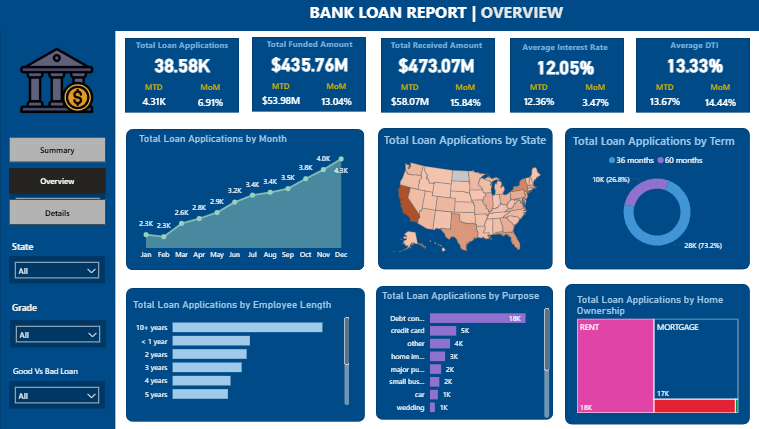

The dashboard page shown, as its layout file describes it:
{"tool":"powerbi","page":{"name":"Overview","canvas":[1280,720],"ordinal":1},"visuals":[{"type":"shape","box":[9.5,0,192.1,720.6],"z":0},{"type":"slicer","fields":{"Values":["bank_loans_data.address_state"]},"box":[25.4,430.1,160.3,46],"z":0,"group":"g6"},{"type":"slicer","fields":{"Values":["bank_loans_data.grade"]},"box":[26.3,536.8,160.3,46],"z":0,"group":"g7"},{"type":"slicer","fields":{"Values":["bank_loans_data.Good vs Bad Loans"]},"box":[25.4,638.1,160.3,46],"z":0,"group":"g8"},{"type":"shape","box":[10.1,0,1269.9,55.4],"z":1000},{"type":"textbox","box":[27,292.1,115.9,31.7],"z":1000,"group":"g9"},{"type":"textbox","box":[25.4,398.4,115.9,31.7],"z":1000,"group":"g6"},{"type":"textbox","box":[25.4,500,74.6,30.2],"z":1000,"group":"g7"},{"type":"textbox","box":[26.8,608.3,131.8,29.9],"z":1000},{"type":"textbox","box":[201.6,0,1078.4,55.4],"z":2000},{"type":"group","id":"g1","title":"Group 2","box":[430.7,65.1,190,129.6],"z":3000},{"type":"shape","box":[430.7,65.1,190,124.4],"z":3000,"group":"g1"},{"type":"shape","box":[219.7,66.1,190,124.4],"z":3000,"group":"g4"},{"type":"shape","box":[860.5,66.4,190,124.4],"z":3000,"group":"g3"},{"type":"shape","box":[645.1,66.7,190,124.4],"z":3000,"group":"g2"},{"type":"shape","box":[1069.8,65.9,190,124.4],"z":4000,"group":"g5"},{"type":"group","id":"g2","title":"Group 2","box":[640.2,66.7,195.2,128.6],"z":4000},{"type":"card","title":"MTD","fields":{"Values":["bank_loans_data.MTD Funded Amount"]},"box":[431,138.3,96.1,53],"z":4000,"group":"g1"},{"type":"card","title":"MTD","fields":{"Values":["bank_loans_data.MTD Loan Applications"]},"box":[220,139.3,96.1,53],"z":4000,"group":"g4"},{"type":"card","title":"MTD","fields":{"Values":["bank_loans_data.MTD Interest Rate"]},"box":[860.8,139.6,96.1,53],"z":4000,"group":"g3"},{"type":"card","title":"MTD","fields":{"Values":["bank_loans_data.MTD Amount Received"]},"box":[645.4,139.9,96.1,53],"z":4000,"group":"g2"},{"type":"group","id":"g3","title":"Group 2","box":[855,66.4,195.2,128.6],"z":5000},{"type":"card","title":"Total Funded Amount","fields":{"Values":["bank_loans_data.Total Funded Amount"]},"box":[433.5,67.5,185.2,65.4],"z":5000,"group":"g1"},{"type":"card","title":"Total Loan Applications","fields":{"Values":["bank_loans_data.Total Loan Applications"]},"box":[217.5,68.5,193.8,65.4],"z":5000,"group":"g4"},{"type":"card","title":"Total Received Amount","fields":{"Values":["bank_loans_data.Total Amount Received"]},"box":[640.2,69.1,195.1,65.4],"z":5000,"group":"g2"},{"type":"card","title":"Average Interest Rate","fields":{"Values":["bank_loans_data.Avg Interest Rate"]},"box":[855,71.9,193.8,65.4],"z":5000,"group":"g3"},{"type":"group","id":"g4","title":"Group 2","box":[217.5,66.1,193.7,128.6],"z":6000},{"type":"card","title":"MoM","fields":{"Values":["bank_loans_data.MoM Funded Amount"]},"box":[538.1,138.4,67.8,56.3],"z":6000,"group":"g1"},{"type":"card","title":"MTD","fields":{"Values":["bank_loans_data.MTD DTI"]},"box":[1070.1,139.1,96.1,53],"z":6000,"group":"g5"},{"type":"card","title":"MoM","fields":{"Values":["bank_loans_data.MoM"]},"box":[327,139.4,67.8,56.3],"z":6000,"group":"g4"},{"type":"card","title":"MoM","fields":{"Values":["bank_loans_data.MoM Interest Rate"]},"box":[967.9,139.7,67.8,56.3],"z":6000,"group":"g3"},{"type":"card","title":"MoM","fields":{"Values":["bank_loans_data.MoM Amount Received"]},"box":[752.5,140,67.8,56.3],"z":6000,"group":"g2"},{"type":"group","id":"g5","title":"Group 1","box":[1069.8,65.9,190,129.6],"z":7000},{"type":"card","title":"Average DTI","fields":{"Values":["bank_loans_data.Avg DTI"]},"box":[1074.3,68.3,185.2,65.4],"z":8000,"group":"g5"},{"type":"shape","box":[220.3,217.7,397.5,235.4],"z":8000},{"type":"card","title":"MoM","fields":{"Values":["bank_loans_data.MoM DTI"]},"box":[1177.2,139.2,67.8,56.3],"z":9000,"group":"g5"},{"type":"shape","box":[640,217.3,291.4,235.8],"z":9000},{"type":"group","id":"g6","title":"Group 3","box":[25.4,398.4,160.3,77.8],"z":11000},{"type":"group","id":"g7","title":"Group 3","box":[25.4,500,160.3,82.5],"z":12000},{"type":"group","id":"g8","title":"Group 3","box":[25.4,638.1,160.3,46],"z":13000},{"type":"areaChart","fields":{"Y":["bank_loans_data.Total Loan Applications"],"Category":["Date Table.Month"]},"box":[237.5,224,358.7,222.3],"z":14000},{"type":"group","id":"g9","title":"Group 4","box":[27,292.1,158.7,84.1],"z":15000},{"type":"shapeMap","fields":{"Value":["bank_loans_data.Total Loan Applications"],"Category":["bank_loans_data.address_state"]},"box":[645.1,224,284.6,225.7],"z":16000},{"type":"shape","box":[951.6,217.3,308.2,235.8],"z":17000},{"type":"donutChart","fields":{"Y":["bank_loans_data.Total Loan Applications"],"Category":["bank_loans_data.term"]},"box":[960.7,224.6,290.2,209.8],"z":18000},{"type":"shape","box":[219.7,483.6,398.4,223],"z":18001},{"type":"barChart","fields":{"Category":["bank_loans_data.emp_length"],"Y":["bank_loans_data.Total Loan Applications"]},"box":[226.2,500,370.5,183.6],"z":18002},{"type":"shape","box":[636.1,480.3,295.1,223],"z":18003},{"type":"barChart","fields":{"Category":["bank_loans_data.purpose"],"Y":["bank_loans_data.Total Loan Applications"]},"box":[641,485.2,288.5,219.7],"z":18004},{"type":"shape","box":[952.5,477,308.2,234.4],"z":18005},{"type":"treemap","fields":{"Group":["bank_loans_data.home_ownership"],"Values":["bank_loans_data.Total Loan Applications"]},"box":[967.2,491.8,278.7,204.9],"z":18006},{"type":"image","box":[11.7,68.3,186.7,138.3],"z":18007},{"type":"pageNavigator","box":[25,231.7,161.7,148.3],"z":18008},{"type":"slicer","fields":{"Values":["Select Measure.Select Measure"]},"box":[27,323.8,158.7,52.4],"z":22002,"group":"g9"}]}

Visuals, with their boxes in screenshot pixels (x1, y1, x2, y2), scaled from the page's 1280x720 canvas onto the 759x429 screenshot:
shape: 6 0 120 428
slicer - bank_loans_data.address_state: 15 256 110 284
slicer - bank_loans_data.grade: 16 320 111 347
slicer - bank_loans_data.Good vs Bad Loans: 15 380 110 408
shape: 6 0 758 33
textbox: 16 174 85 193
textbox: 15 237 84 256
textbox: 15 298 59 316
textbox: 16 362 94 380
textbox: 120 0 758 33
"Group 2" group: 255 39 368 116
shape: 255 39 368 113
shape: 130 39 243 114
shape: 510 40 623 114
shape: 383 40 495 114
shape: 634 39 747 113
"Group 2" group: 380 40 495 116
"MTD" card: 256 82 313 114
"MTD" card: 130 83 187 115
"MTD" card: 510 83 567 115
"MTD" card: 383 83 440 115
"Group 2" group: 507 40 623 116
"Total Funded Amount" card: 257 40 367 79
"Total Loan Applications" card: 129 41 244 80
"Total Received Amount" card: 380 41 495 80
"Average Interest Rate" card: 507 43 622 82
"Group 2" group: 129 39 244 116
"MoM" card: 319 82 359 116
"MTD" card: 635 83 692 114
"MoM" card: 194 83 234 117
"MoM" card: 574 83 614 117
"MoM" card: 446 83 486 117
"Group 1" group: 634 39 747 116
"Average DTI" card: 637 41 747 80
shape: 131 130 366 270
"MoM" card: 698 83 738 116
shape: 380 129 552 270
"Group 3" group: 15 237 110 284
"Group 3" group: 15 298 110 347
"Group 3" group: 15 380 110 408
areaChart - bank_loans_data.Total Loan Applications x Date Table.Month: 141 133 354 266
"Group 4" group: 16 174 110 224
shapeMap - bank_loans_data.Total Loan Applications x bank_loans_data.address_state: 383 133 551 268
shape: 564 129 747 270
donutChart - bank_loans_data.Total Loan Applications x bank_loans_data.term: 570 134 742 259
shape: 130 288 367 421
barChart - bank_loans_data.emp_length x bank_loans_data.Total Loan Applications: 134 298 354 407
shape: 377 286 552 419
barChart - bank_loans_data.purpose x bank_loans_data.Total Loan Applications: 380 289 551 420
shape: 565 284 748 424
treemap - bank_loans_data.home_ownership x bank_loans_data.Total Loan Applications: 574 293 739 415
image: 7 41 118 123
pageNavigator: 15 138 111 226
slicer - Select Measure.Select Measure: 16 193 110 224
